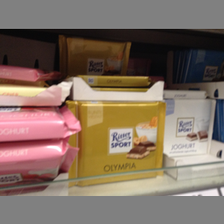chocolate: (64, 97, 164, 186), (162, 97, 215, 156), (59, 34, 132, 74)
